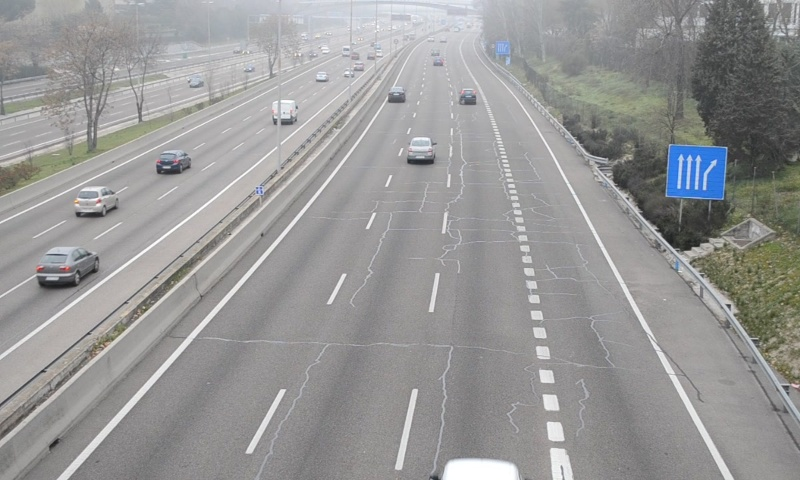car: (408, 137, 436, 163), (458, 88, 477, 106), (388, 86, 406, 104)
